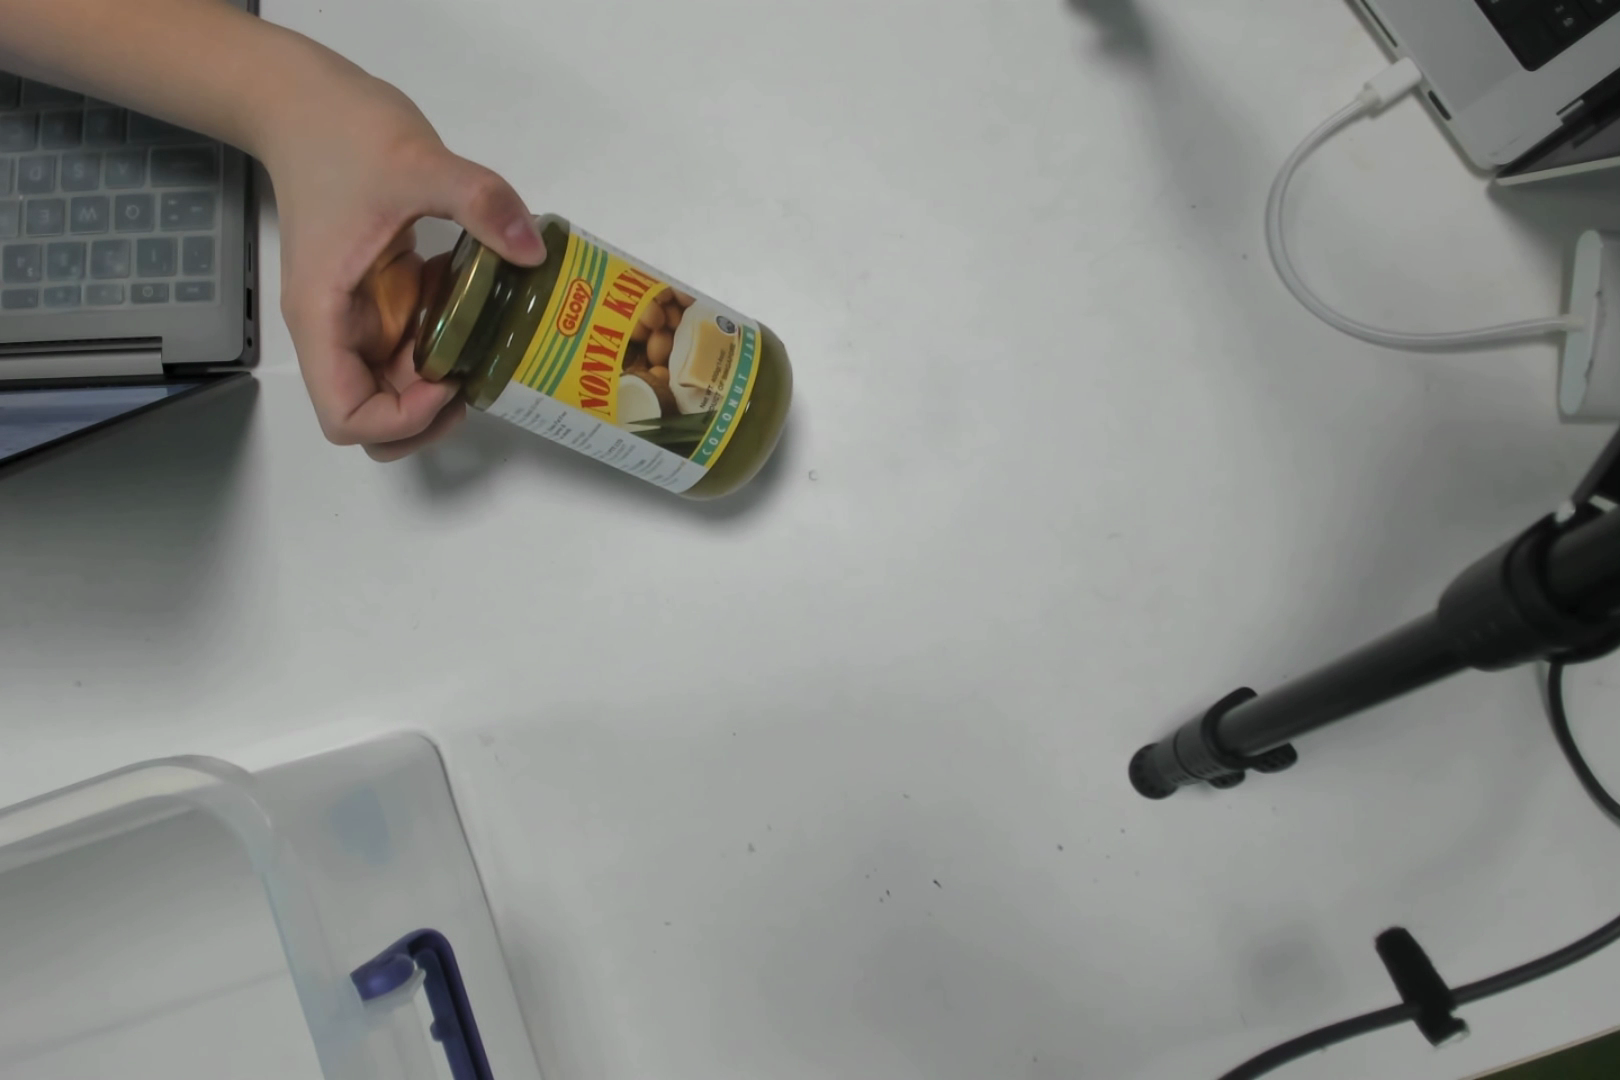Kaya_400-499g_Halal_NonHealthy: (470, 228, 843, 495)
